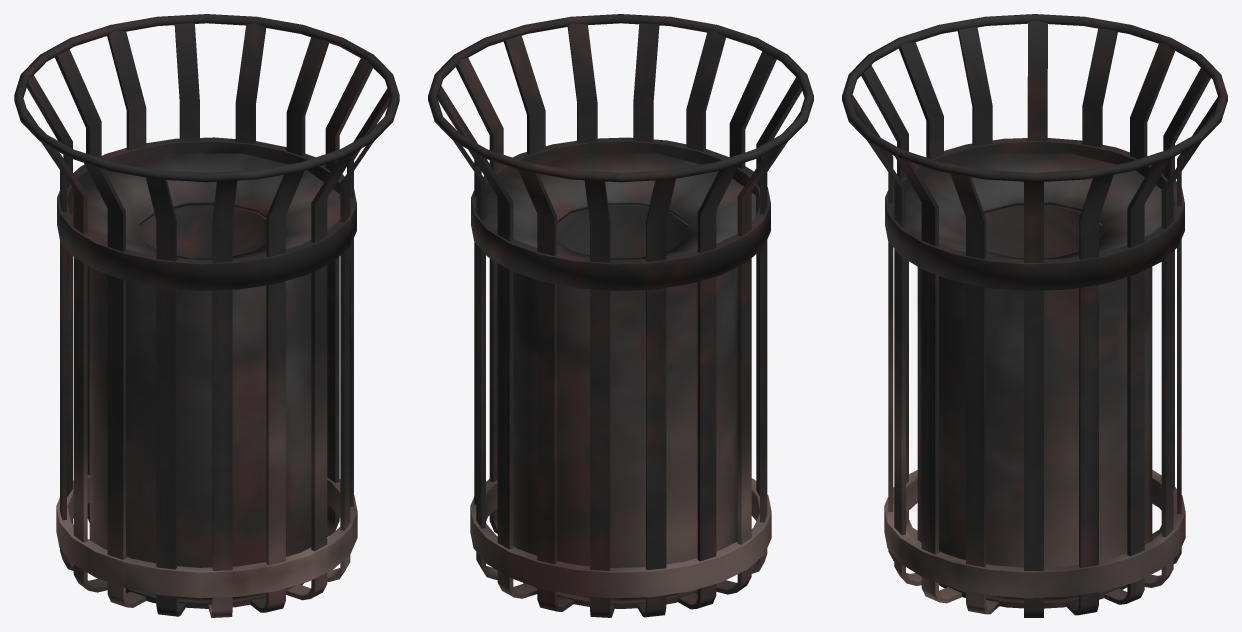
Rendered from o3_cestino_a_rete.glb.
The picture shows the model from 3 angles, left to right: view 1: azimuth 30°, elevation 25°; view 2: azimuth 150°, elevation 25°; view 3: azimuth 270°, elevation 25°; orthographic projection.
Visible parts, largest first — view 1: sb_modello; view 2: sb_modello; view 3: sb_modello.
Boxes of the visible parts, x1,y1,x2,y2 form: sb_modello: (14,14,399,617); sb_modello: (428,14,813,617); sb_modello: (842,14,1227,617).
Size of the model in its own units: 0.6855 by 0.92 by 0.6855.
Materials: 1 (1 with a texture image).
